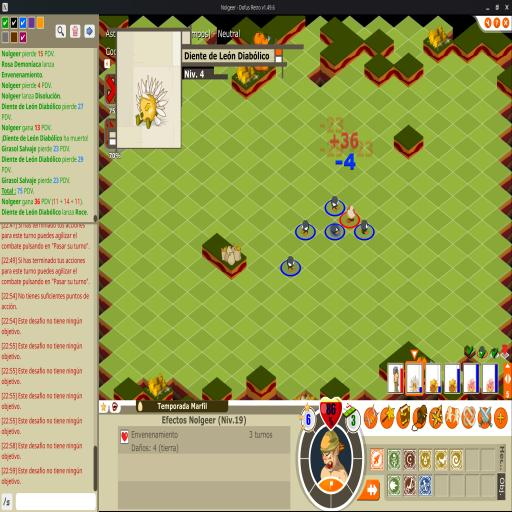Enemigos: (330, 195, 341, 213), (359, 219, 370, 236), (300, 219, 310, 237), (286, 255, 296, 273), (330, 224, 340, 235)
Personaje: (346, 204, 356, 224)
